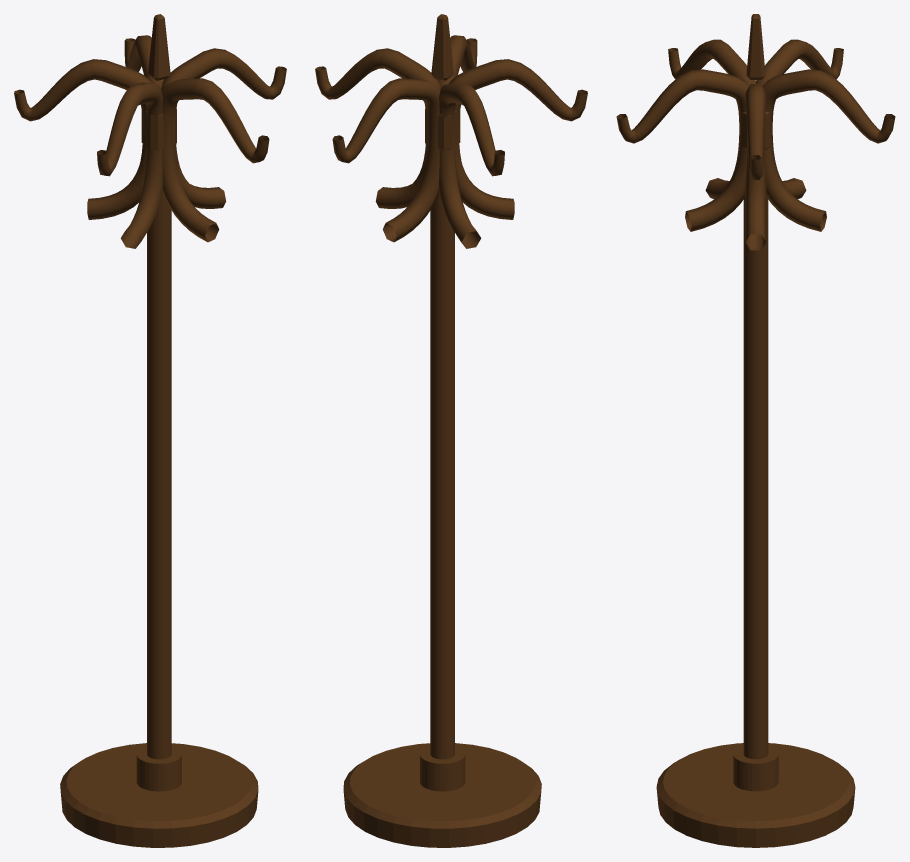
Rendered from CoatStand01.fbx.
The picture shows the model from 3 angles, left to right: view 1: azimuth 30°, elevation 25°; view 2: azimuth 150°, elevation 25°; view 3: azimuth 270°, elevation 25°; orthographic projection.
Parts seen in each view (by area): view 1: CoatStand01; view 2: CoatStand01; view 3: CoatStand01.
Part boxes in pixels (left/top/right/bottom): CoatStand01: left=14, top=14, right=286, bottom=847; CoatStand01: left=315, top=14, right=587, bottom=847; CoatStand01: left=616, top=14, right=895, bottom=847.
Bounding box in the file's own units: 79.33 × 261 × 83.41.
